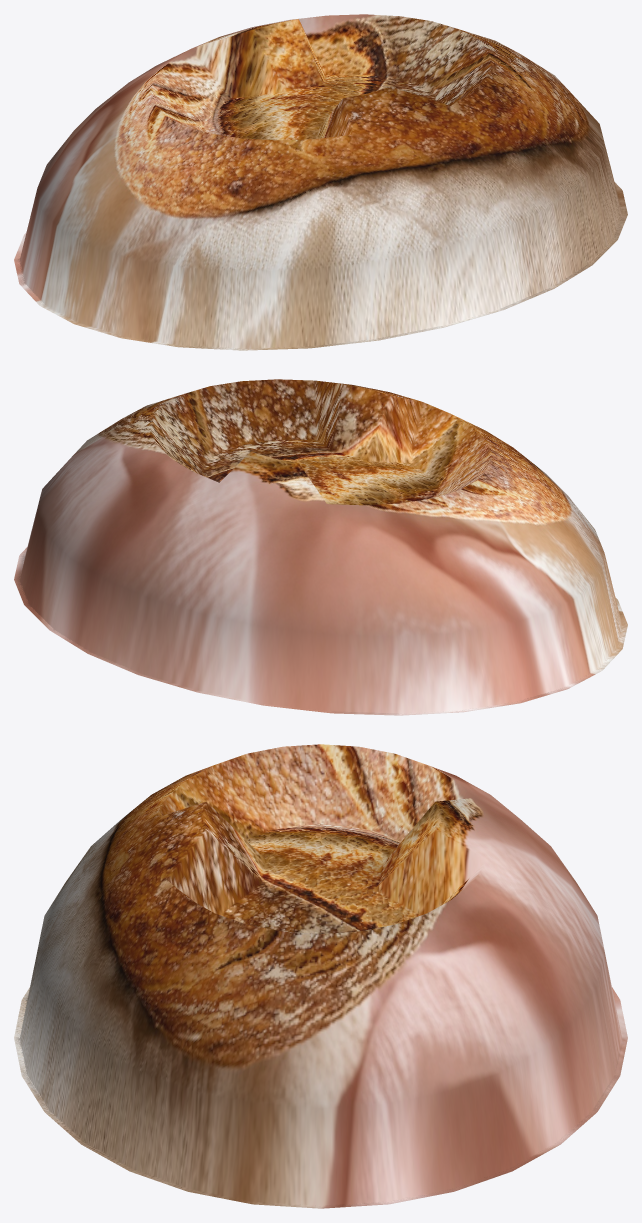
The model's file is prop_loaf.glb.
3 views of the same model, one above another, from view 1: azimuth 30°, elevation 25°; view 2: azimuth 150°, elevation 25°; view 3: azimuth 270°, elevation 25° (orthographic). The views are drawn at different scales.
Visible parts, largest first — view 1: prop_loaf; view 2: prop_loaf; view 3: prop_loaf.
Part boxes in pixels (x1,y1,x2,y2): prop_loaf: (14,14,627,350); prop_loaf: (14,379,627,715); prop_loaf: (14,744,627,1208).
Size of the model in its own units: 0.18 by 0.0545 by 0.1368.
Materials: 1 (1 with a texture image).
